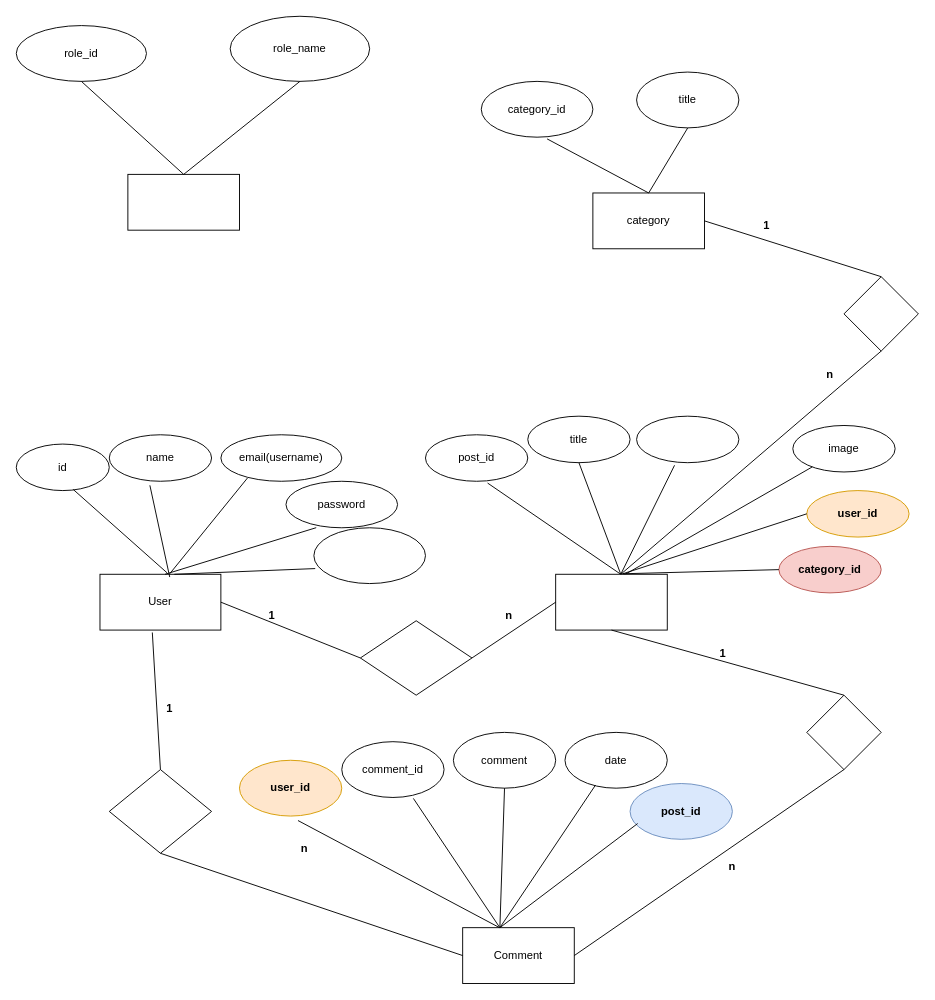
The diagram is 935 pixels wide and 1000 high, and some of its shapes have lost their labels. Here are the shapes that lost their labels. From the top down, the box of each, then its label:
(127, 173, 239, 230): Role
(843, 276, 918, 351): contain
(636, 415, 739, 463): contant
(313, 527, 425, 584): about
(555, 573, 667, 630): Post
(359, 620, 472, 695): Can Have
(806, 694, 881, 770): have
(108, 769, 212, 853): do
